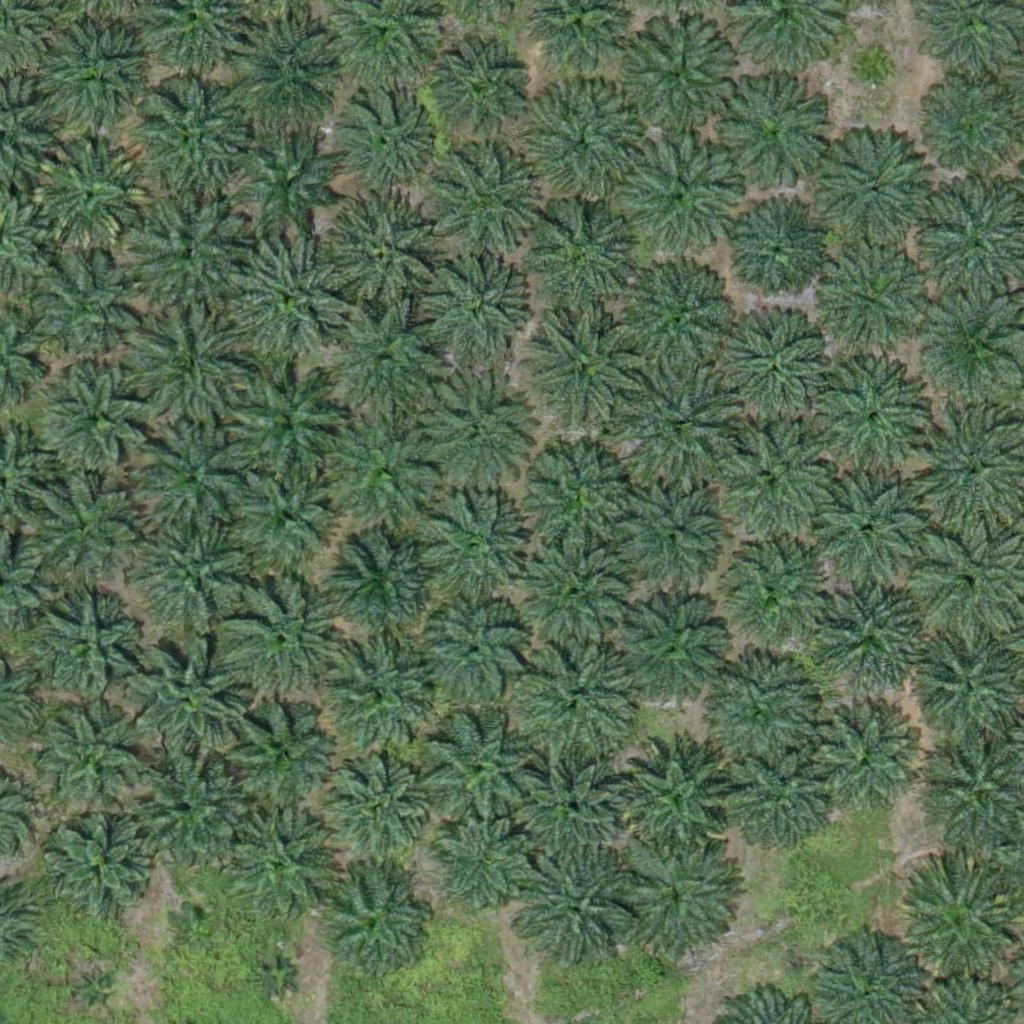Kelapa_Sawit: (615, 258, 740, 384), (522, 77, 647, 203), (521, 199, 646, 325), (521, 311, 646, 437), (316, 190, 441, 316), (324, 301, 449, 427), (220, 236, 345, 362), (224, 6, 349, 132), (128, 71, 253, 197), (126, 191, 251, 317), (116, 306, 241, 432), (29, 699, 154, 825), (132, 414, 257, 540), (130, 508, 255, 634), (125, 643, 250, 769), (125, 758, 250, 884), (222, 353, 347, 479), (226, 452, 351, 578), (222, 573, 347, 699), (212, 686, 337, 812), (314, 408, 439, 534), (408, 490, 533, 616), (411, 367, 536, 493), (413, 710, 538, 836), (518, 530, 643, 656), (517, 638, 642, 764), (513, 846, 638, 972), (699, 420, 824, 546), (612, 731, 737, 857), (616, 835, 741, 961), (613, 130, 738, 255), (615, 13, 740, 138), (518, 436, 643, 561), (704, 531, 829, 656), (693, 649, 818, 774), (896, 864, 1021, 989), (40, 15, 153, 129), (314, 747, 427, 861), (326, 640, 439, 754), (427, 809, 540, 923), (812, 246, 925, 359), (815, 128, 928, 241), (46, 814, 159, 927), (318, 866, 431, 979), (329, 528, 442, 641), (613, 594, 726, 707), (614, 480, 727, 593), (627, 365, 740, 478), (719, 739, 832, 852), (26, 475, 138, 589), (719, 69, 831, 182), (729, 315, 841, 428), (415, 251, 527, 364), (431, 145, 543, 258), (34, 137, 146, 250), (33, 253, 145, 366), (41, 362, 153, 475), (28, 588, 140, 701), (225, 814, 337, 927), (419, 598, 531, 711), (511, 754, 623, 867), (810, 702, 922, 815), (817, 577, 929, 690), (809, 474, 921, 587), (814, 364, 926, 477), (922, 74, 1022, 175), (729, 201, 829, 302), (431, 39, 531, 140), (336, 89, 436, 190), (238, 130, 338, 230), (848, 45, 898, 95), (250, 952, 300, 1002), (66, 967, 116, 1017), (169, 898, 219, 948)
